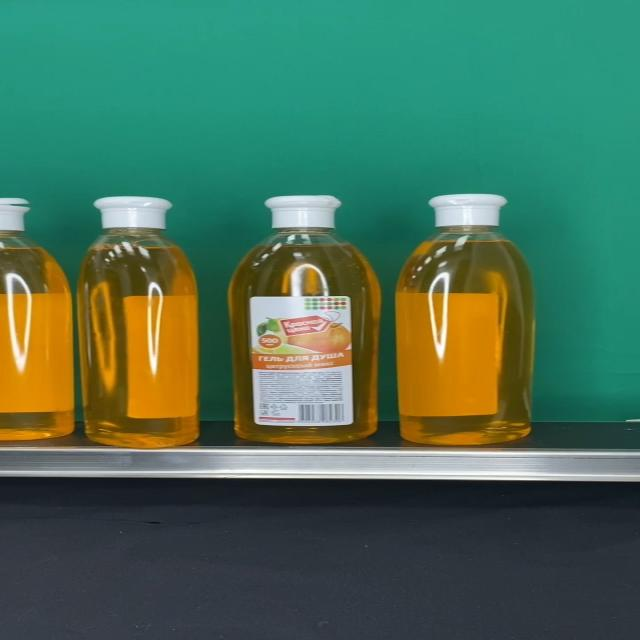Bottle: (228, 195, 382, 442), (395, 194, 535, 445), (76, 196, 198, 448)
Cap: (428, 193, 510, 227), (94, 197, 172, 230), (262, 196, 342, 228)
